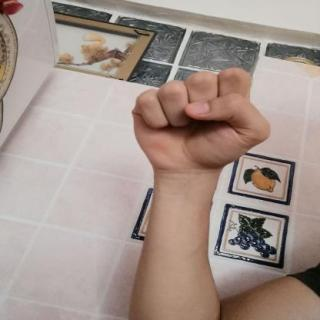SAD: (116, 56, 288, 186)
